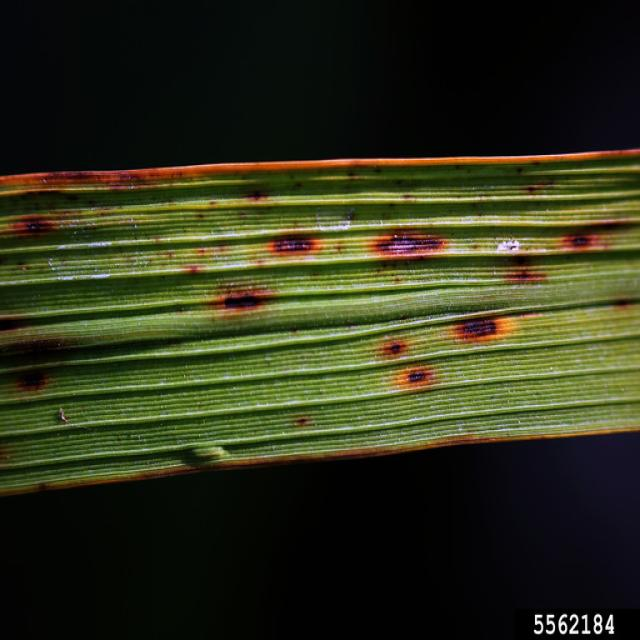Brown spot: (2, 308, 86, 402), (368, 209, 454, 267), (445, 297, 524, 358), (198, 277, 295, 325), (261, 224, 336, 264), (559, 219, 612, 267), (5, 206, 64, 248), (509, 158, 566, 200), (392, 364, 444, 400), (504, 258, 550, 292), (366, 333, 422, 358), (237, 174, 284, 203), (284, 408, 320, 438)
